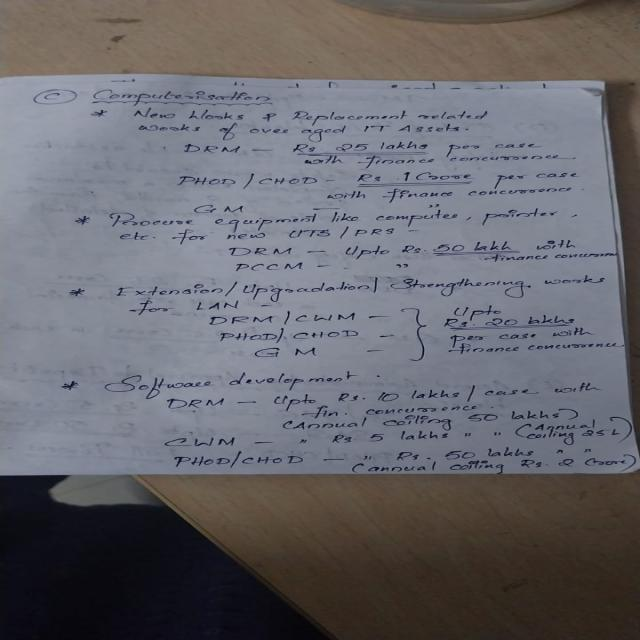Paper - Recyclable: (2, 72, 636, 476)
